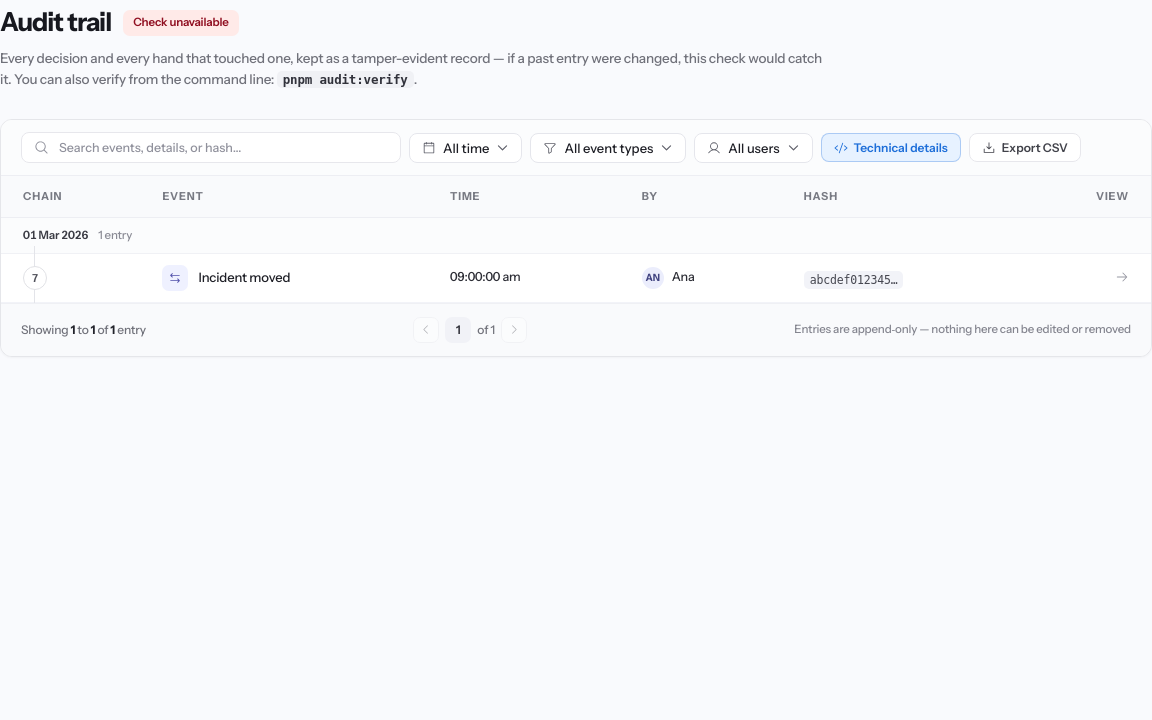
Test: AuditPage › opens the details drawer for the clicked event, from data already loaded
What coordinates should you click on to do the following:
click the text "Incident moved"
I would click on:
 (244, 278)
Its box is [198,268,290,288].
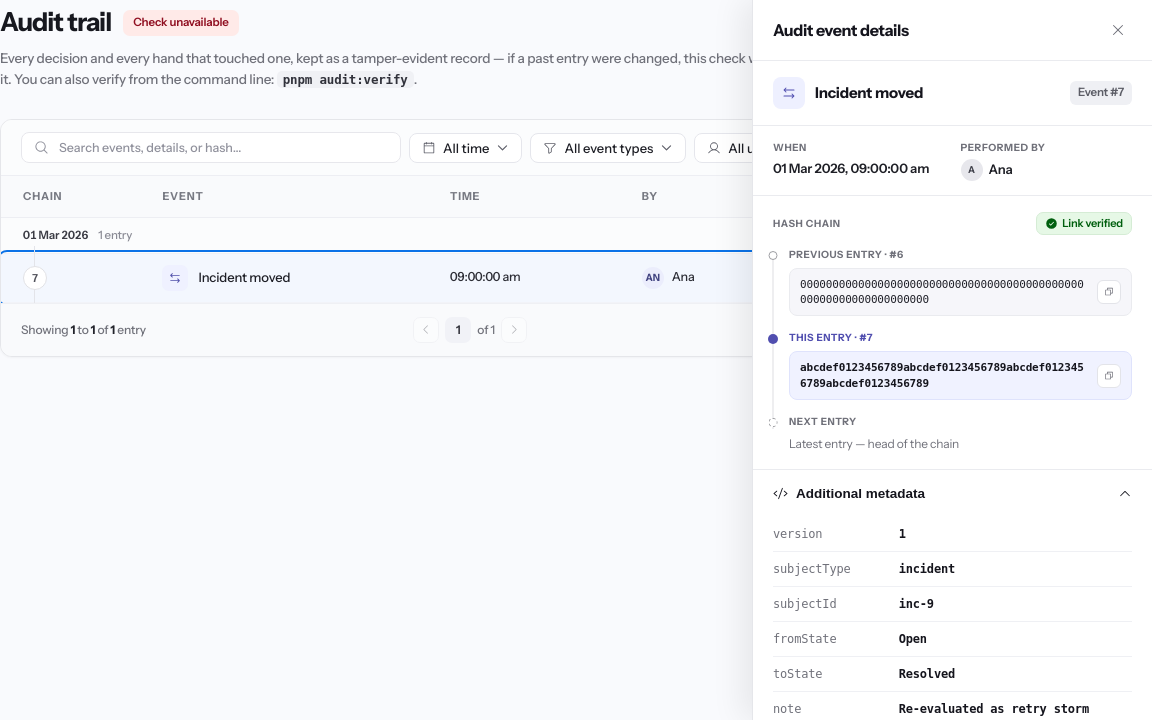
Check: the text "Event #7" is shown, box [1070,81,1132,105]
Check: the text "Performed by" is shown, box [960,141,1046,154]
Check: the text "Resolved" is shown, box [899,657,1132,692]
